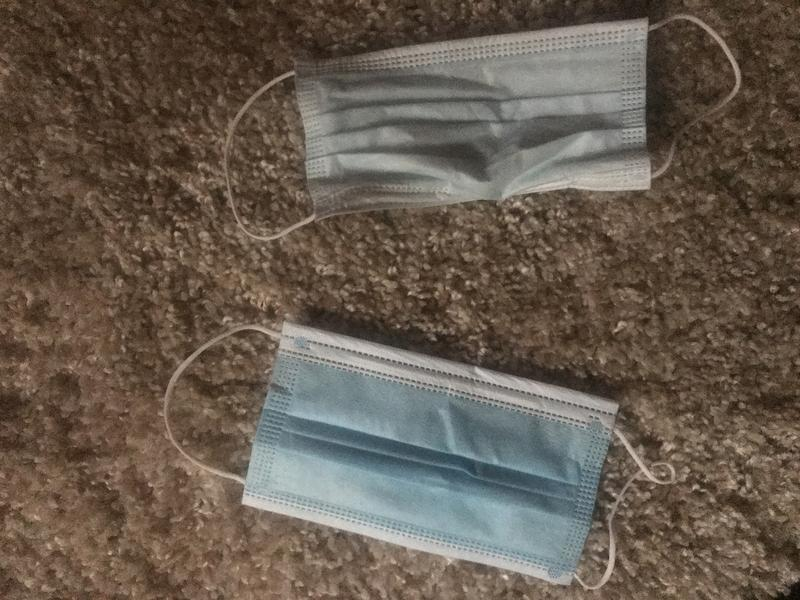medical_mask: (224, 14, 741, 238)
